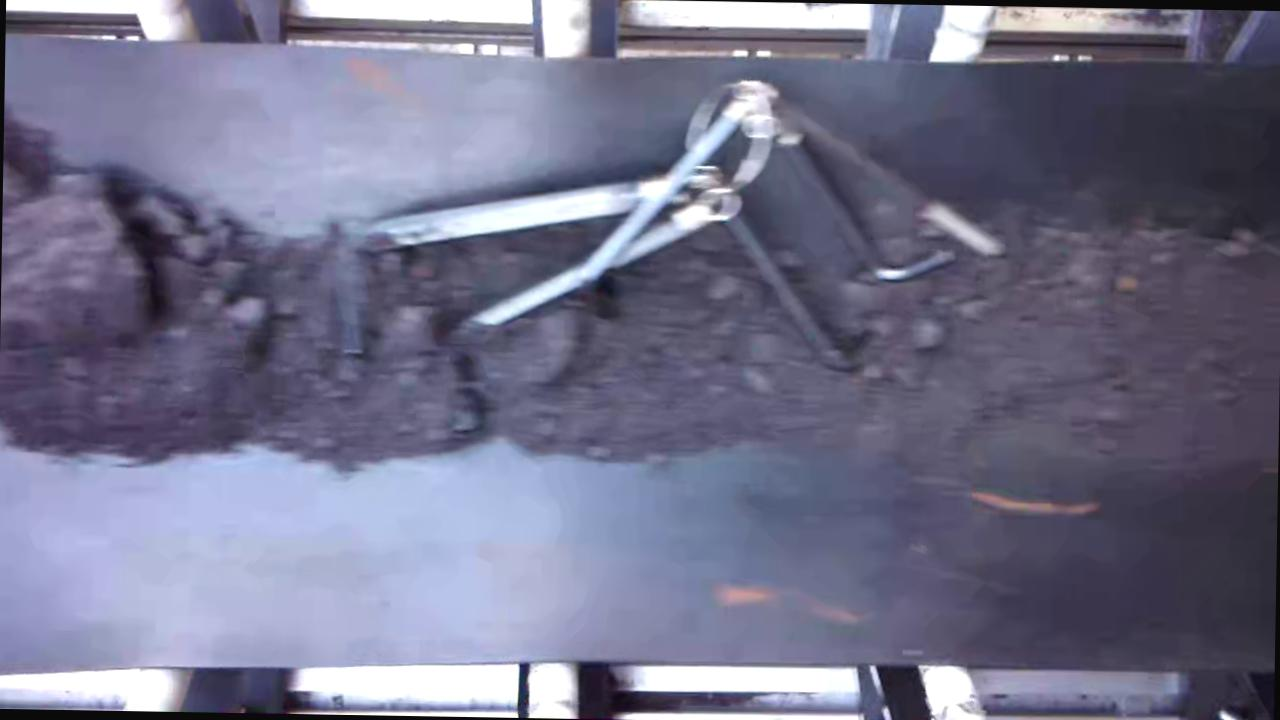conveyor: (0, 45, 1280, 671)
